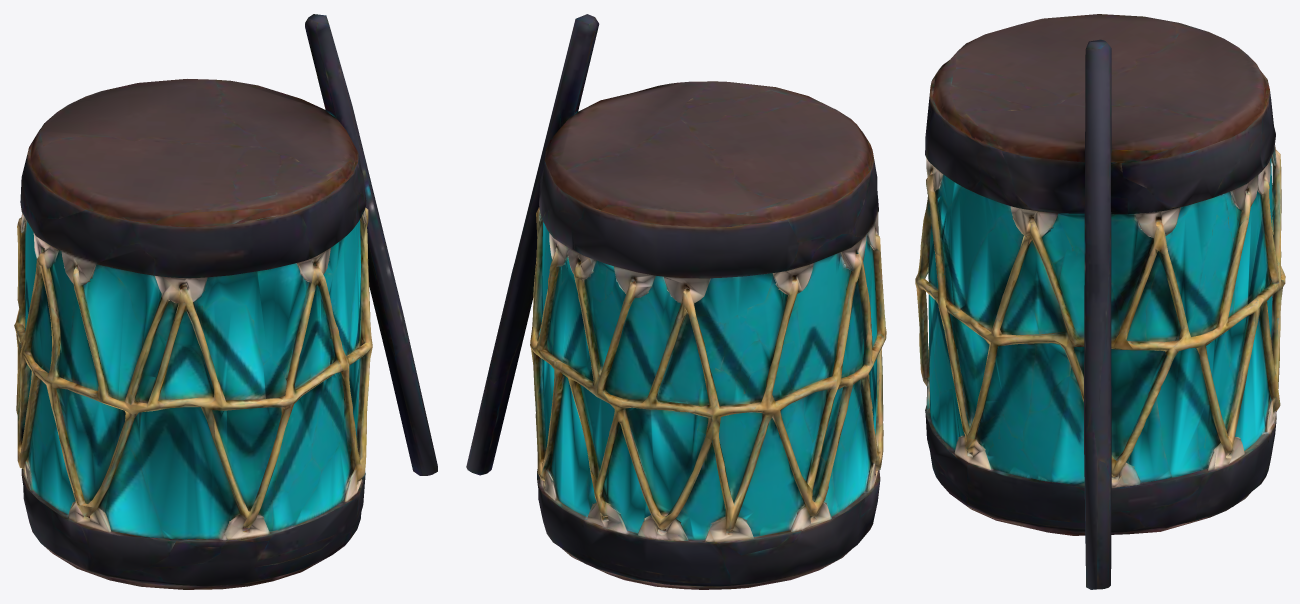
File: modelo.glb
3 renders of one model, left to right at view 1: azimuth 30°, elevation 25°; view 2: azimuth 150°, elevation 25°; view 3: azimuth 270°, elevation 25°, orthographic. The views are drawn at different scales.
Visible parts, largest first — view 1: node_0; view 2: node_0; view 3: node_0.
Boxes of the visible parts, x1,y1,x2,y2 form: node_0: (14,14,437,589); node_0: (466,14,886,589); node_0: (915,14,1285,589).
Bounding box in the file's own units: 0.7934 × 0.9224 × 0.6248.
1 material, 1 textured.
